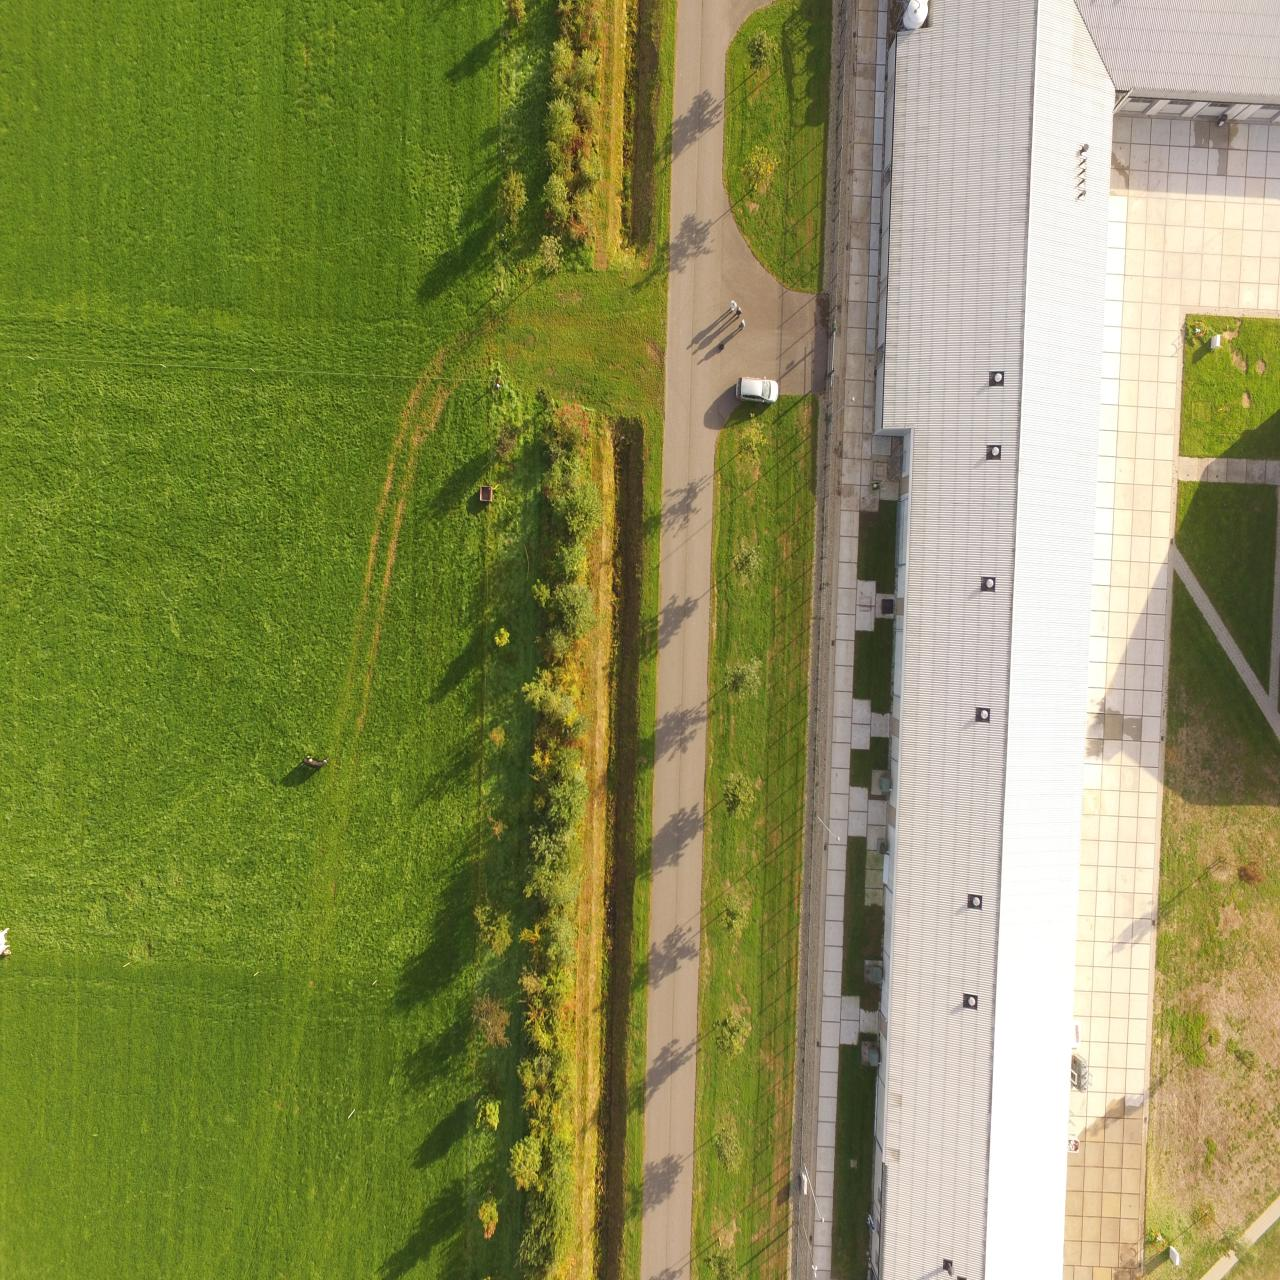cow: (301, 755, 330, 769), (0, 924, 12, 956)
